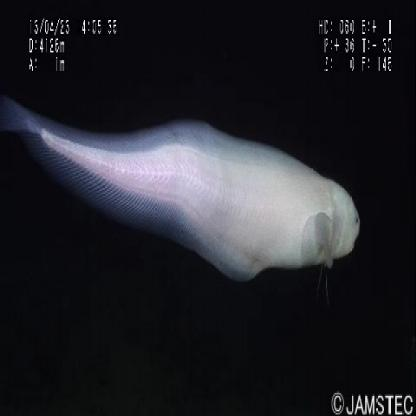Bio: (1, 91, 361, 286)
